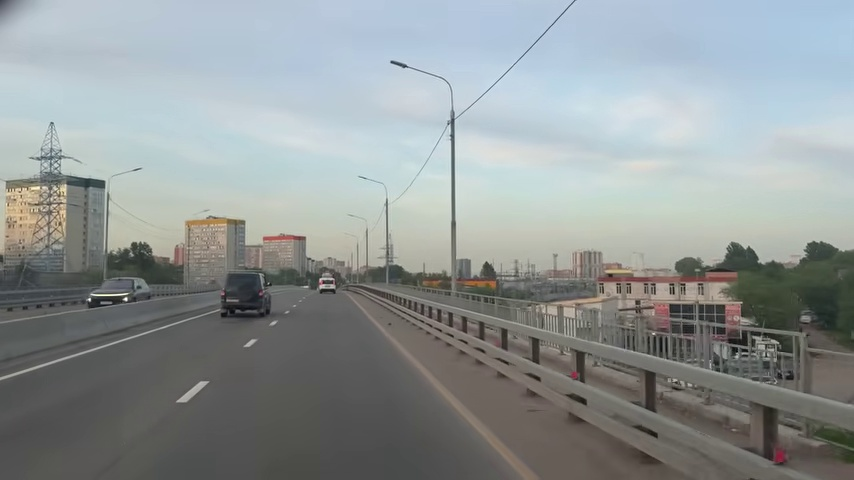apagada: (387, 57, 410, 73), (356, 172, 373, 185)
